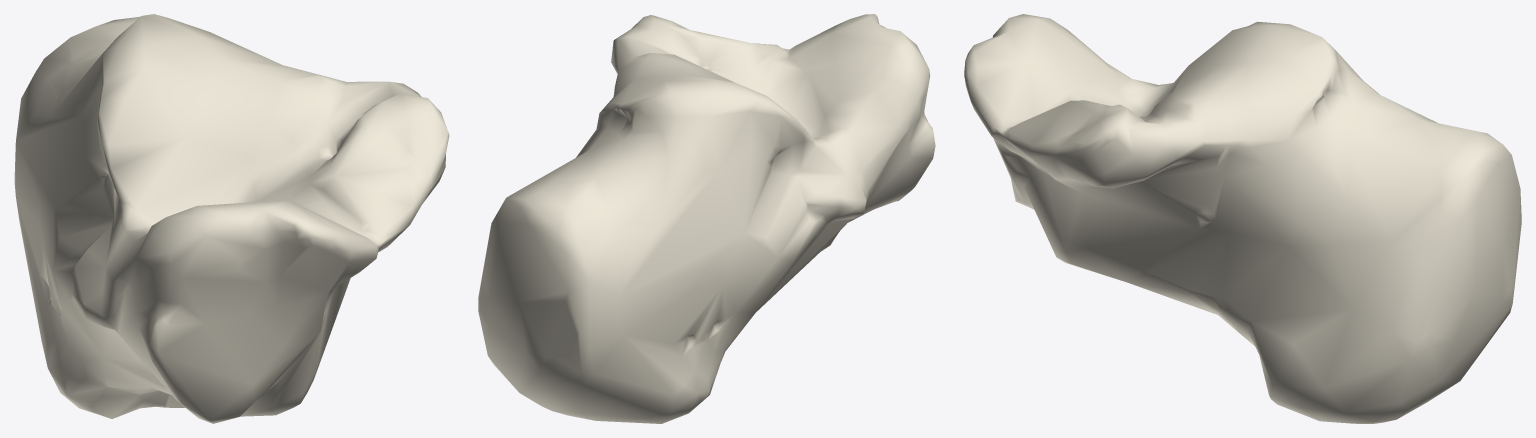
The picture shows the model from 3 angles, left to right: view 1: azimuth 30°, elevation 25°; view 2: azimuth 150°, elevation 25°; view 3: azimuth 270°, elevation 25°; orthographic projection. The views are drawn at different scales.
Visible parts, largest first — view 1: ZA_de406c692e95c99e; view 2: ZA_de406c692e95c99e; view 3: ZA_de406c692e95c99e.
Part boxes in pixels (box(x1,y1,x2,y2)): ZA_de406c692e95c99e: box(14, 14, 449, 423); ZA_de406c692e95c99e: box(478, 14, 935, 423); ZA_de406c692e95c99e: box(964, 14, 1521, 423).
Size of the model in its own units: 0.0475 by 0.0511 by 0.0757.
